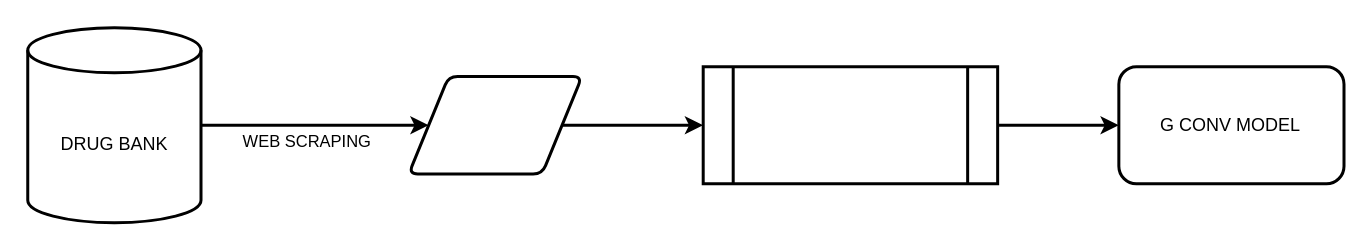
The diagram is 1371 pixels wide and 249 high, and some of its shapes have lost their labels. The shapes that lost their labels are listed below. From the top down, each one's centre as x and y in pixels, then its label:
[494,124]: DATA
[849,124]: PREPROCESSING
